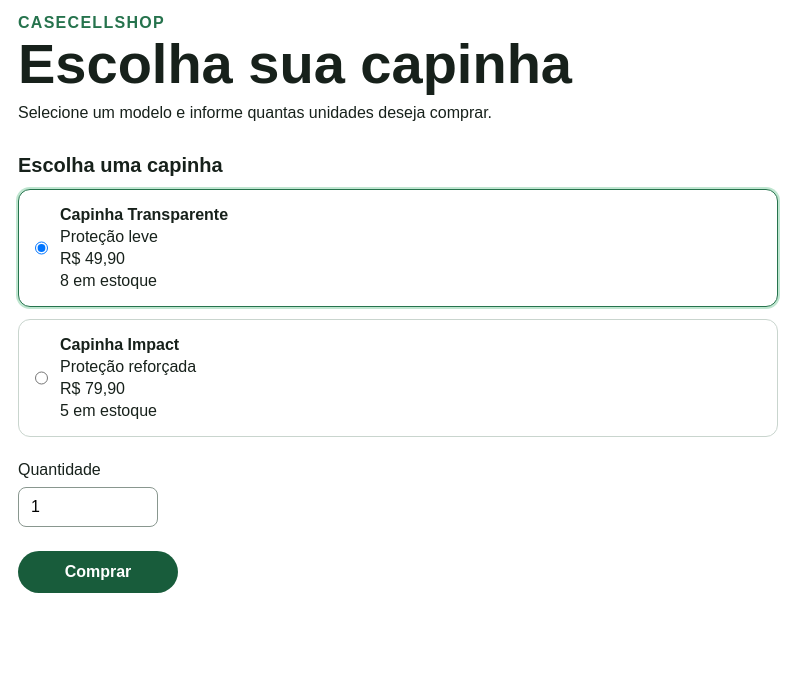
Test: CheckoutPage › aborts a never-settling GET and pauses exactly at the polling deadline
What coordinates should you click on to do the following:
click the button "Comprar"
I would click on:
 (98, 572)
Its box is [18,551,178,593].
Wait 60000 ms
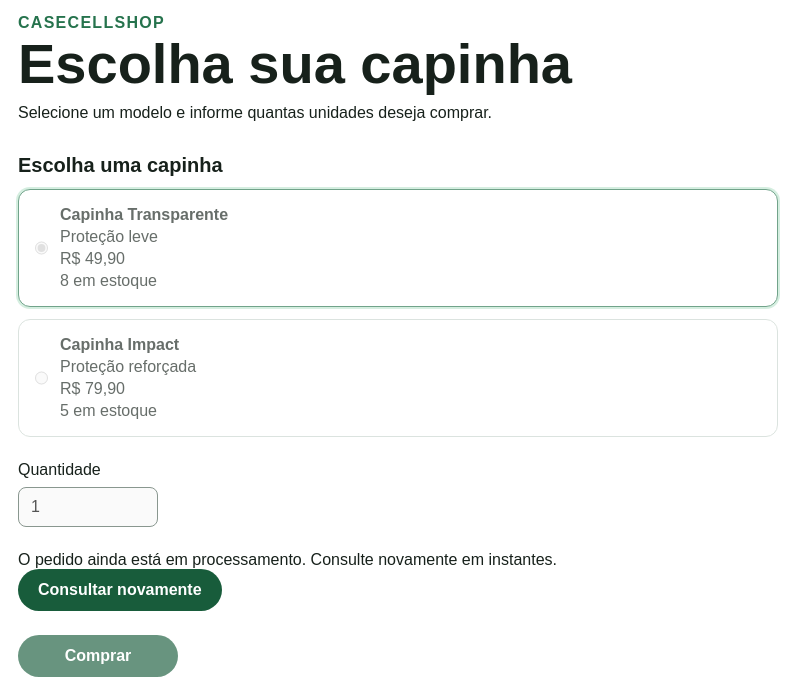
Check: the message reads "O pedido ainda está em processamento. Consulte novamente em instantes.", box [18,551,557,568]
